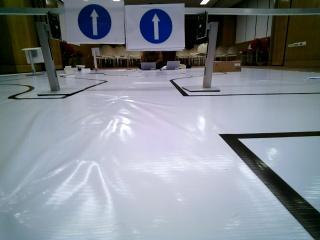straight: (64, 1, 123, 46), (125, 8, 182, 49)
